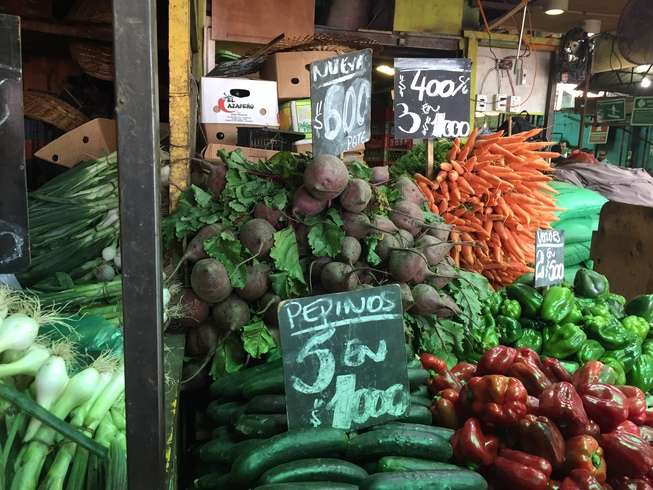precio: (275, 293, 412, 431), (393, 58, 475, 139), (311, 53, 375, 152), (534, 228, 566, 284)
